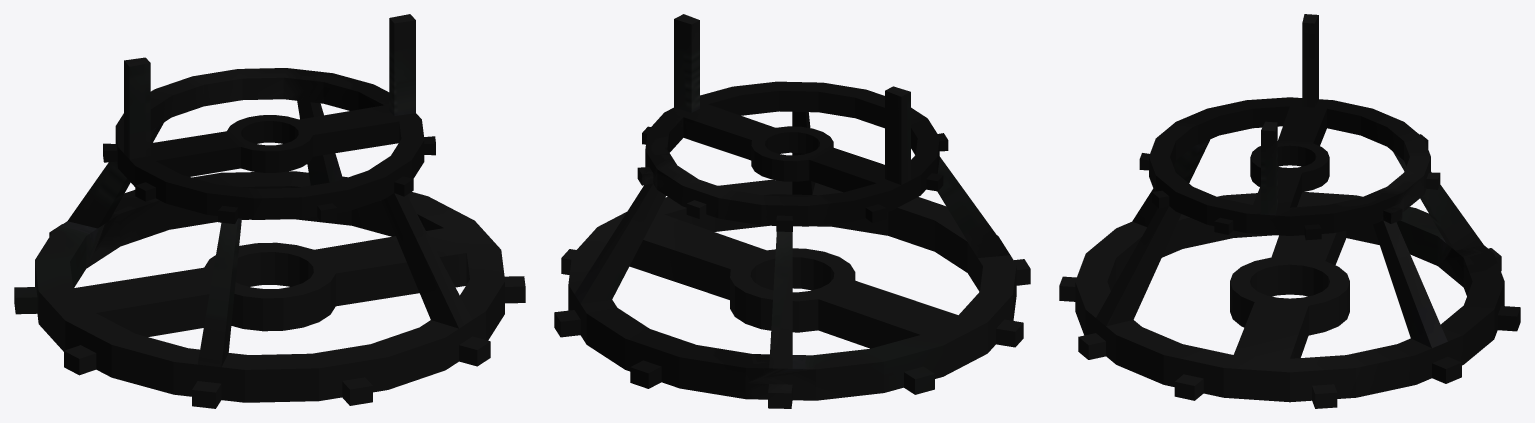
The model's file is chandelier.fbx.
3 renders of one model, left to right at view 1: azimuth 30°, elevation 25°; view 2: azimuth 150°, elevation 25°; view 3: azimuth 270°, elevation 25°, orthographic. The views are drawn at different scales.
Visible parts, largest first — view 1: chandelier_base3; view 2: chandelier_base3; view 3: chandelier_base3.
Part boxes in pixels (left/top/right/bottom): chandelier_base3: left=14, top=14, right=525, bottom=408; chandelier_base3: left=554, top=14, right=1030, bottom=408; chandelier_base3: left=1059, top=14, right=1520, bottom=408.
Bounding box in the file's own units: 1166 × 666 × 1166.
